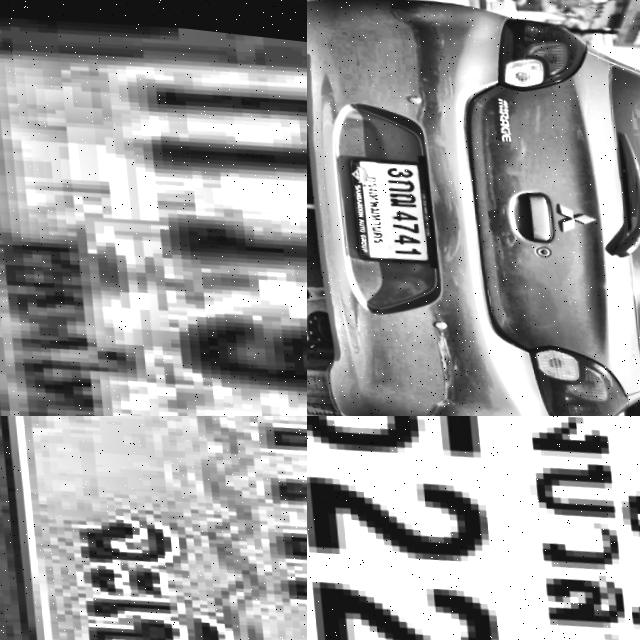license-plate: (0, 0, 307, 416), (307, 416, 640, 640), (6, 416, 307, 640), (341, 147, 431, 261)
